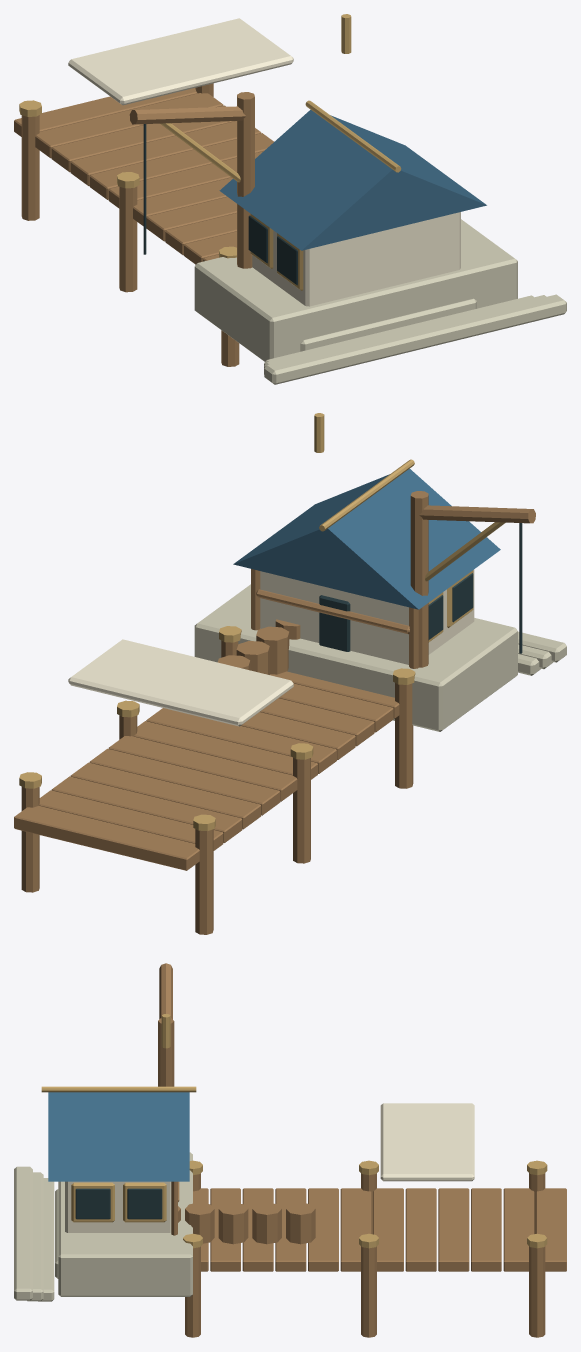
File: level_22.glb
3 views of the same model, one above another, from view 1: azimuth 30°, elevation 25°; view 2: azimuth 150°, elevation 25°; view 3: azimuth 270°, elevation 25° (orthographic). The views are drawn at different scales.
Visible parts, largest first — view 1: fishing_wharf — level 22; view 2: fishing_wharf — level 22; view 3: fishing_wharf — level 22.
Boxes of the visible parts, <box> form: fishing_wharf — level 22: <box>14,14,566,384</box>; fishing_wharf — level 22: <box>14,413,566,934</box>; fishing_wharf — level 22: <box>14,963,566,1337</box>.
Bounding box in the file's own units: 5.14 × 4.72 × 8.22.
